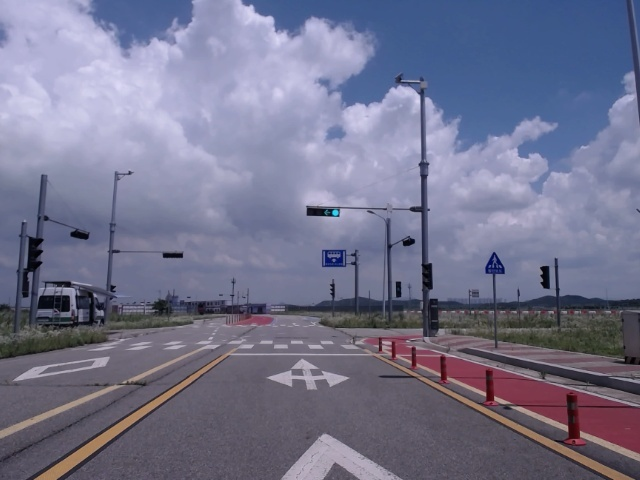all_green_4: (307, 204, 342, 218)
